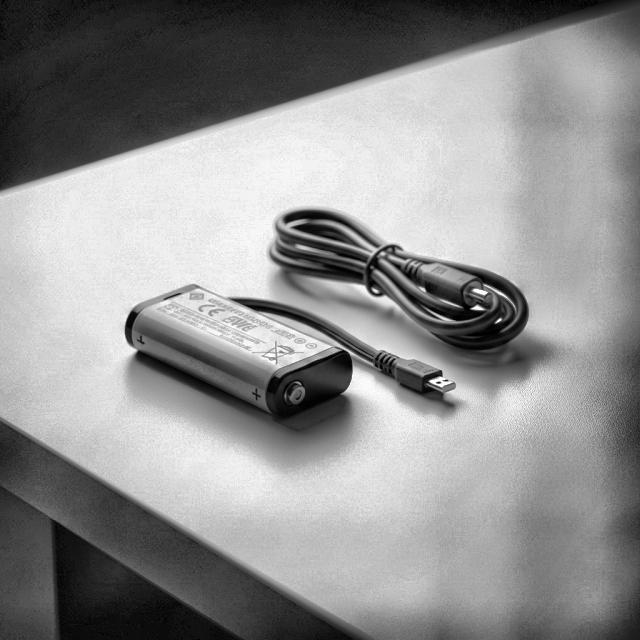Battery: (126, 278, 352, 428)
Cable: (266, 200, 534, 354), (231, 288, 459, 403)
